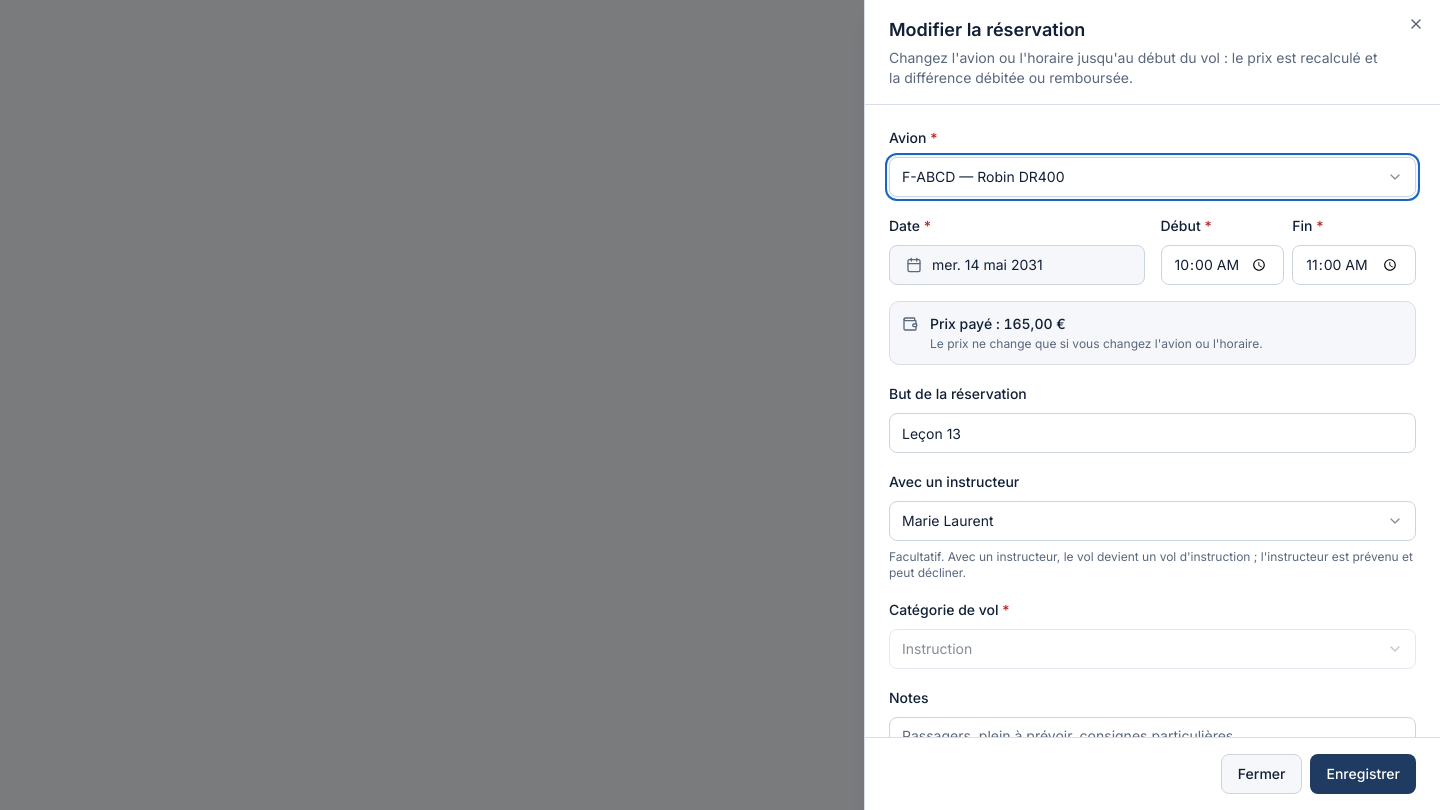
Test case: Changer l'instructeur d'un vol réservé pour un cours › prévient, avant d'enregistrer, que le vol ne sera plus rattaché au cours
Expected: the dialog "Modifier la réservation" is shown, [864, 0, 1439, 809]
Expected: the text "ne sera plus rattaché au cours" is not shown
Step 1. Click the dropdown named "Avec un instructeur" → (948, 520), box [889, 501, 1416, 541]
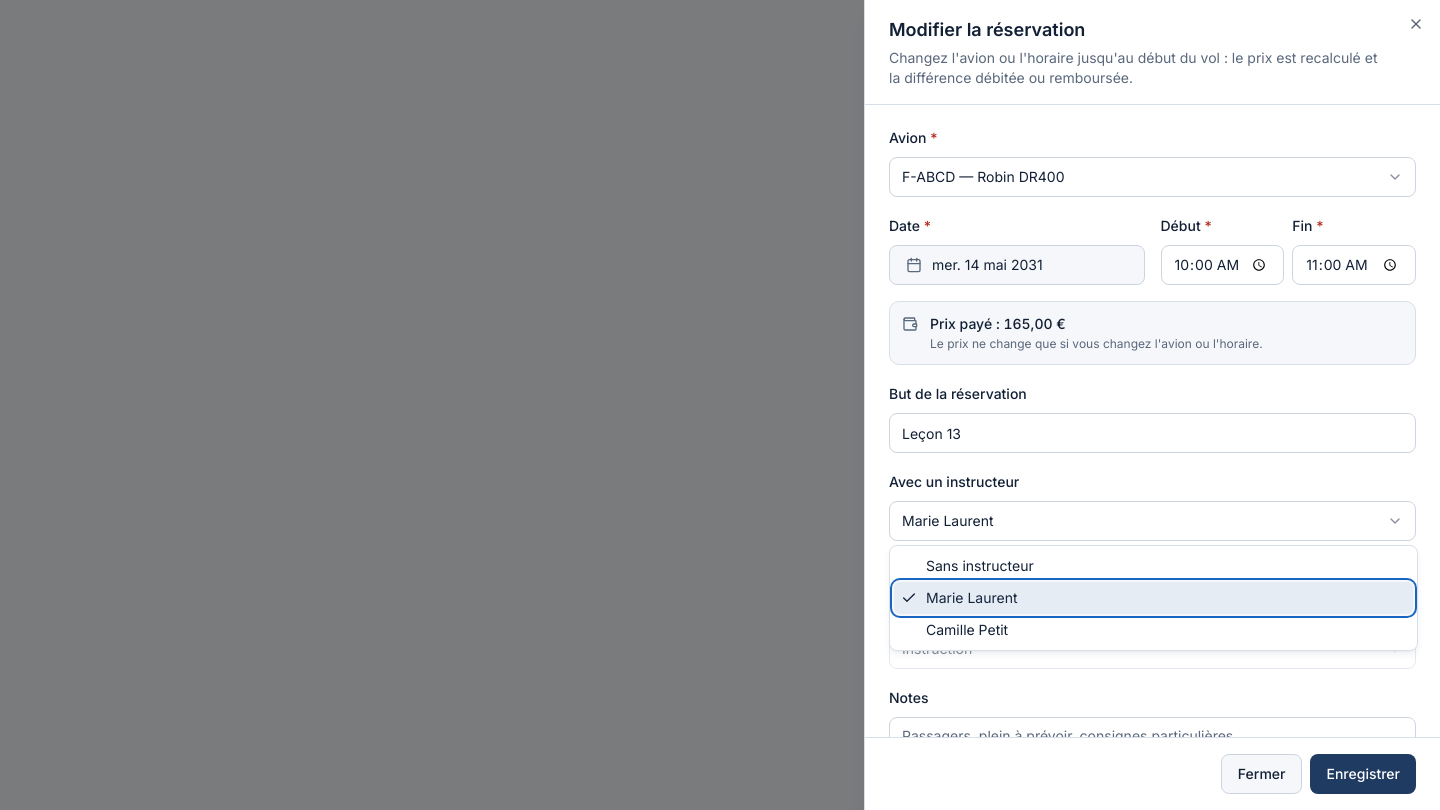
Step 2. Click the option "Camille Petit" → (967, 630), box [926, 621, 1008, 638]
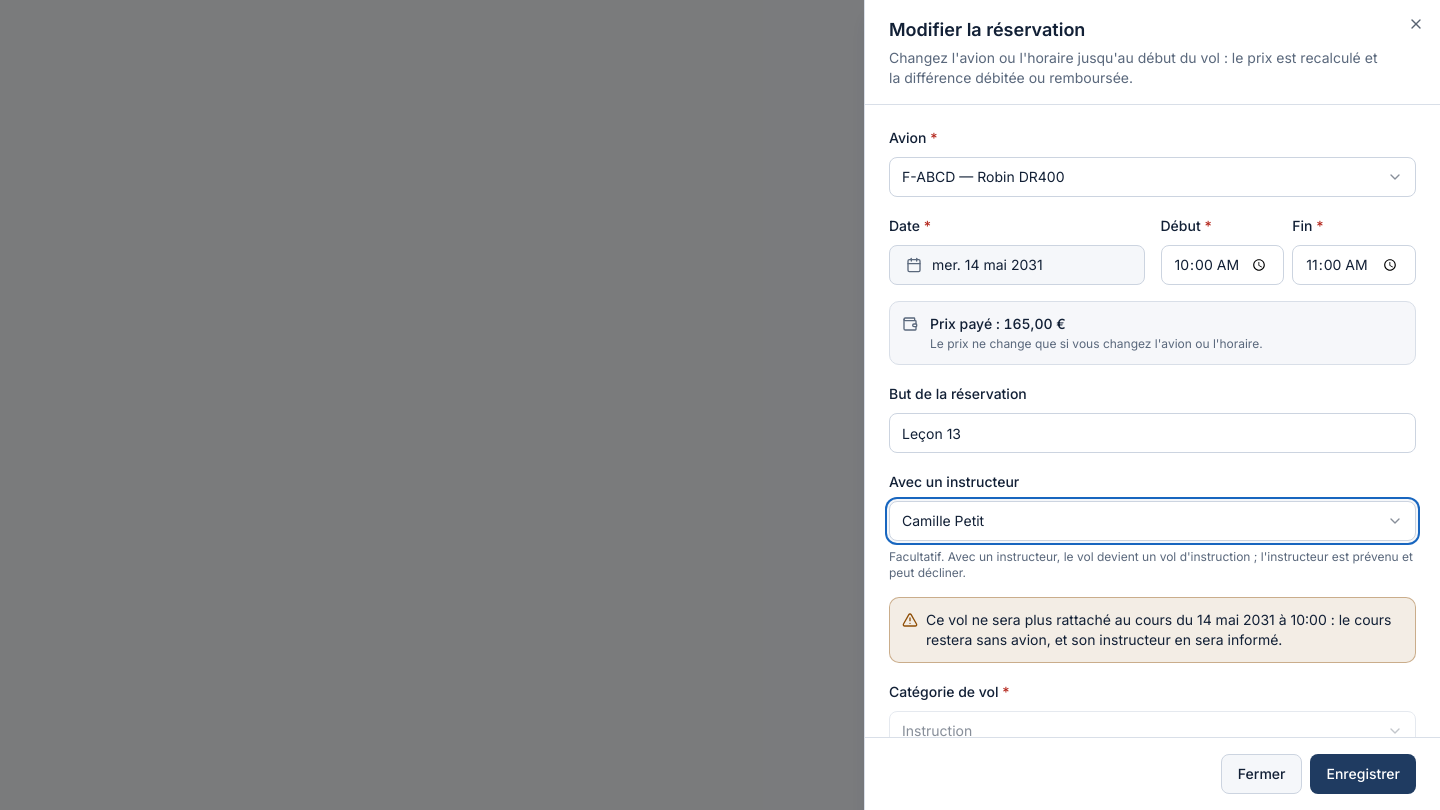
Expected: the message shows "Ce vol ne sera plus rattaché au cours du 14 mai 2031 à 10:00 : le cours restera sans avion", [926, 611, 1392, 648]
